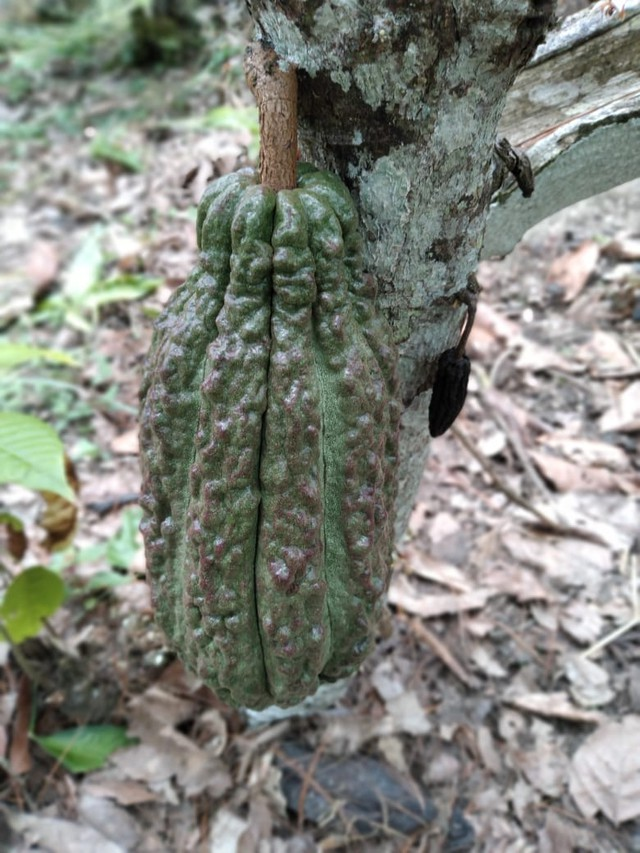Health: (131, 155, 414, 720)
